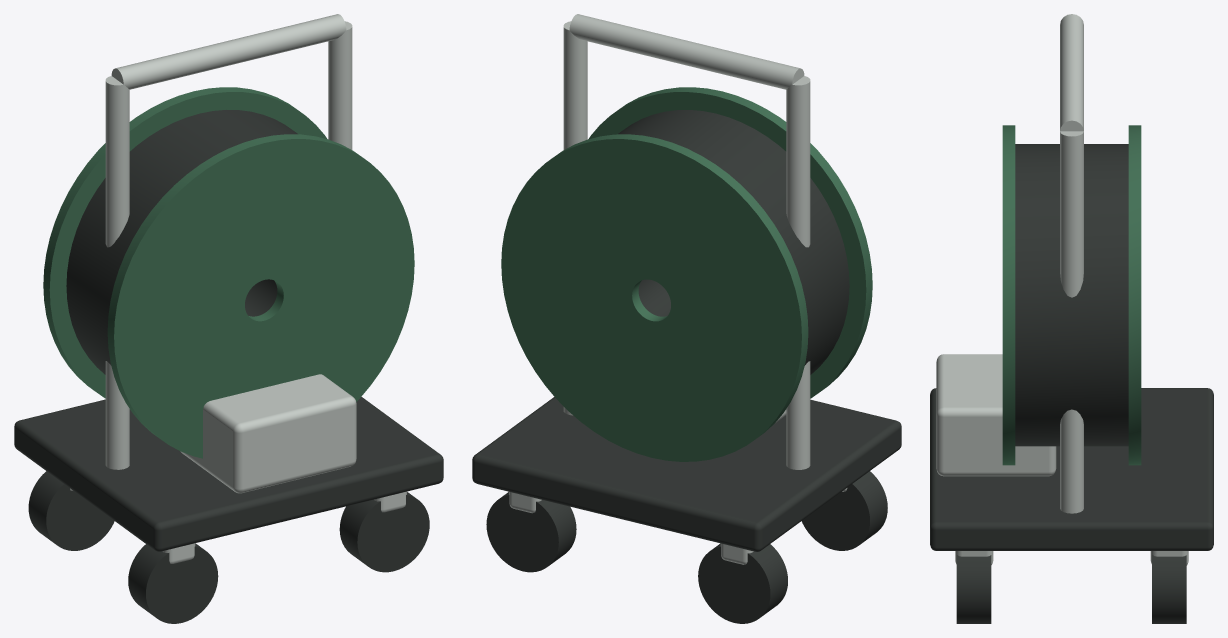
The model's file is sawmill-and-timber-yard-strapping-reel-cart-5d982b18__31198.glb.
The picture shows the model from 3 angles, left to right: view 1: azimuth 30°, elevation 25°; view 2: azimuth 150°, elevation 25°; view 3: azimuth 270°, elevation 25°; orthographic projection.
Visible parts, largest first — view 1: strapping-reel-cart; view 2: strapping-reel-cart; view 3: strapping-reel-cart.
Part boxes in pixels (x1=…): strapping-reel-cart: x1=14, y1=14, x2=443, y2=623; strapping-reel-cart: x1=472, y1=14, x2=901, y2=623; strapping-reel-cart: x1=930, y1=14, x2=1213, y2=623.
Bounding box in the file's own units: 0.54 × 0.879 × 0.45.
